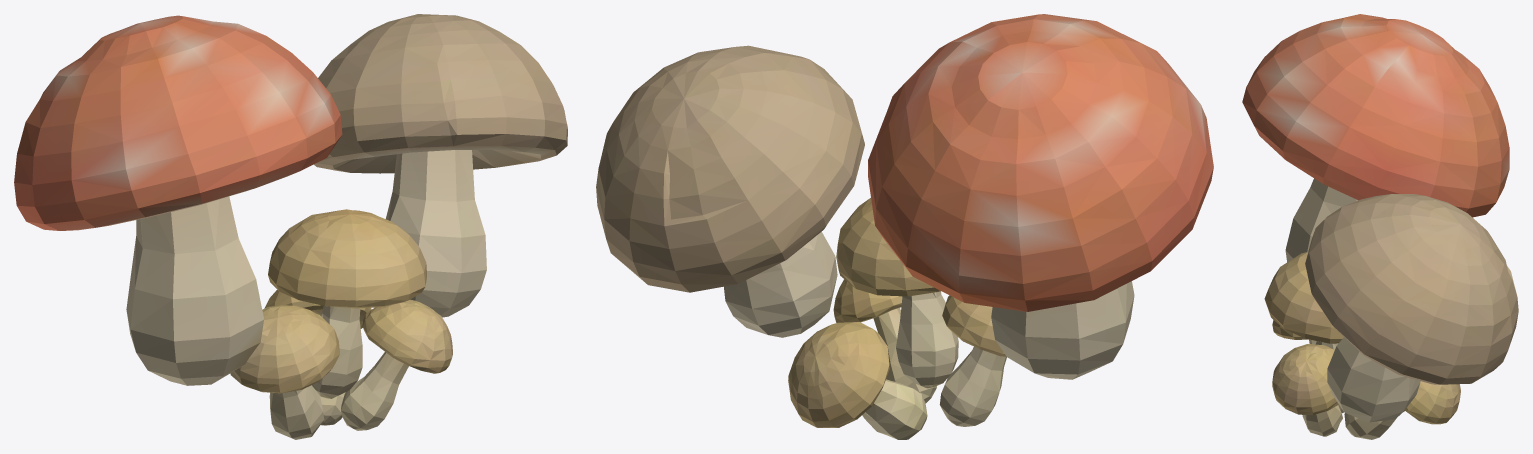
The model's file is mushrooms.glb.
3 views of the same model, side by side, from view 1: azimuth 30°, elevation 25°; view 2: azimuth 150°, elevation 25°; view 3: azimuth 270°, elevation 25° (orthographic). The views are drawn at different scales.
Parts seen in each view (by area): view 1: geometry_0; view 2: geometry_0; view 3: geometry_0.
Boxes of the visible parts, left/top/right/bottom form: geometry_0: left=14, top=14, right=567, bottom=439; geometry_0: left=596, top=14, right=1213, bottom=439; geometry_0: left=1242, top=14, right=1518, bottom=439.
Size of the model in its own units: 0.1924 by 0.1445 by 0.103.
